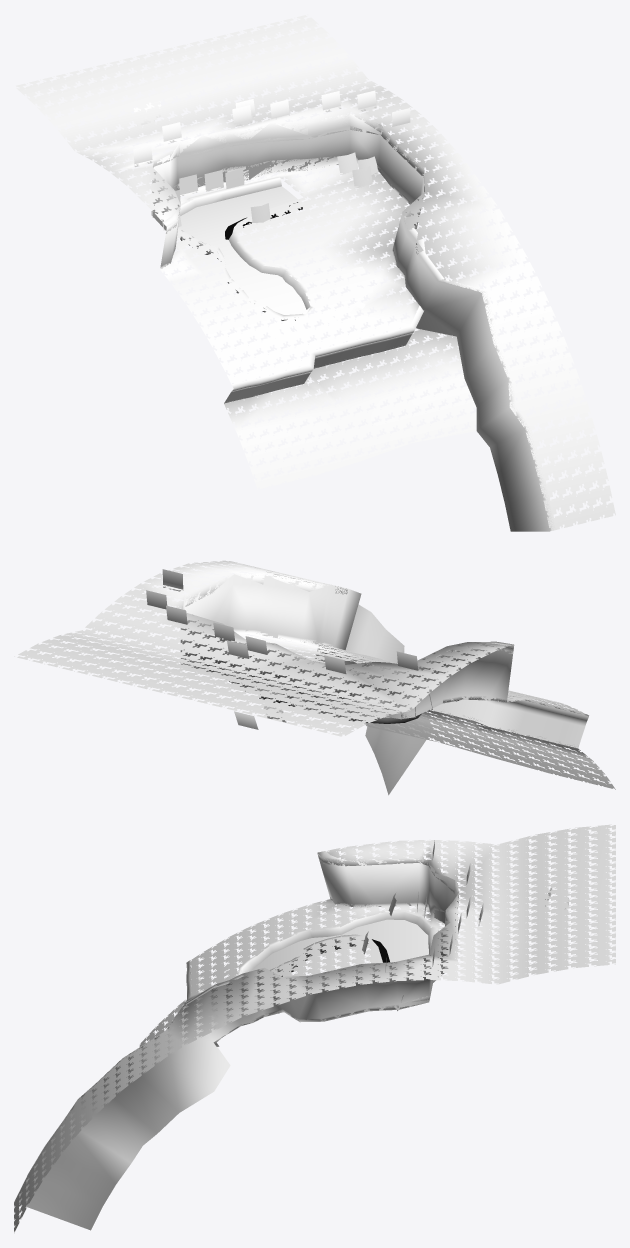
The model's file is grd_Dtn_ne_0.dae.
3 views of the same model, one above another, from view 1: azimuth 30°, elevation 25°; view 2: azimuth 150°, elevation 25°; view 3: azimuth 270°, elevation 25° (orthographic). The views are drawn at different scales.
Visible parts, largest first — view 1: grd_Dtn_ne_0; view 2: grd_Dtn_ne_0; view 3: grd_Dtn_ne_0.
Part boxes in pixels (x1,y1,x2,y2): grd_Dtn_ne_0: (16, 14, 615, 531); grd_Dtn_ne_0: (14, 560, 615, 795); grd_Dtn_ne_0: (14, 824, 615, 1232).
Bounding box in the file's own units: 704 × 696 × 1277.
8 materials, 1 textured.
